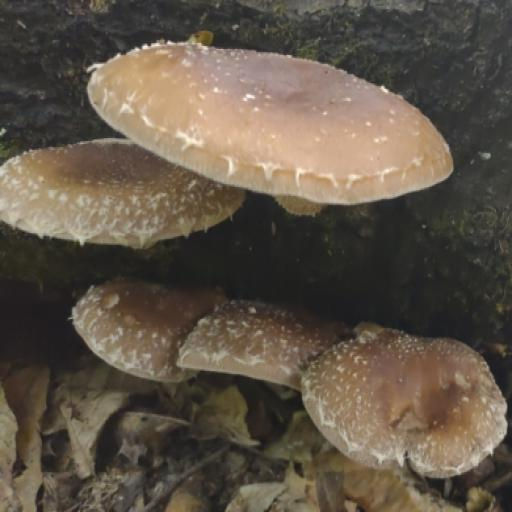Shiitake Mushroom: (66, 259, 512, 479), (84, 10, 474, 233), (0, 122, 235, 258)
